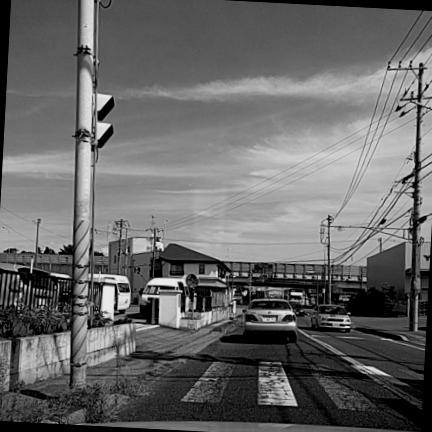Road: (123, 318, 424, 430)
